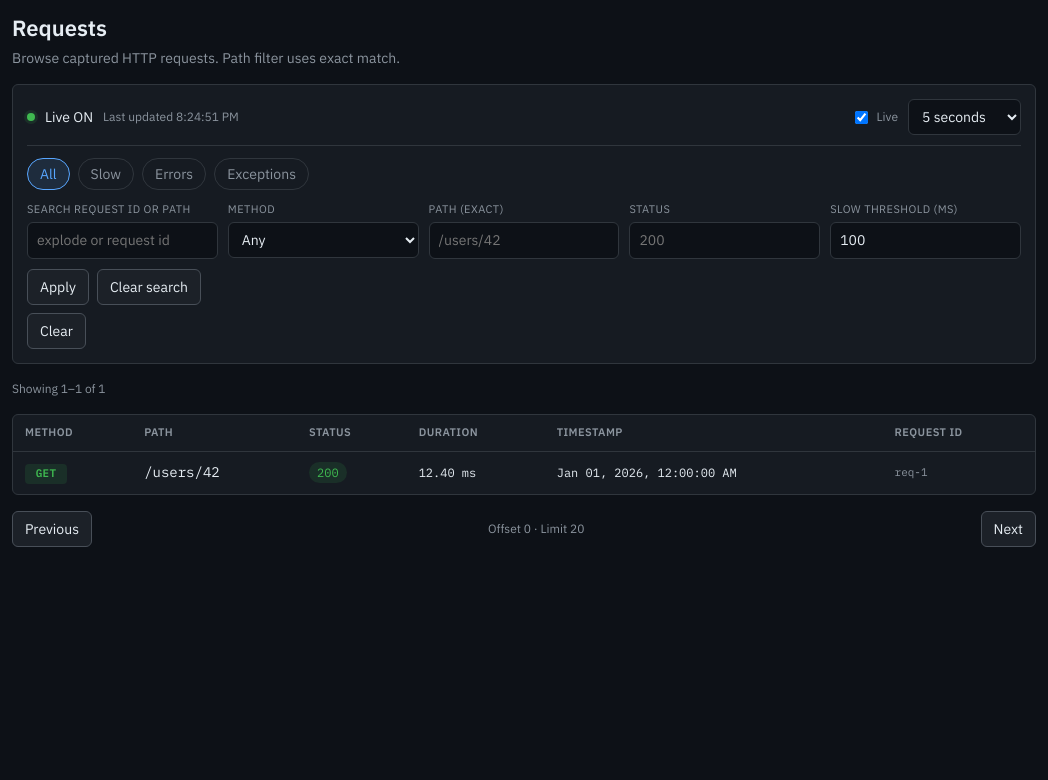
Test: RequestsExplorer › stops auto-refresh when live mode is disabled
Expected: the table with test id "request-table" is shown, [13,415,1035,494]
Click the checkbox with test id "live-toggle".
click(861, 117)  # box [855,111,868,124]
Wait 10000 ms
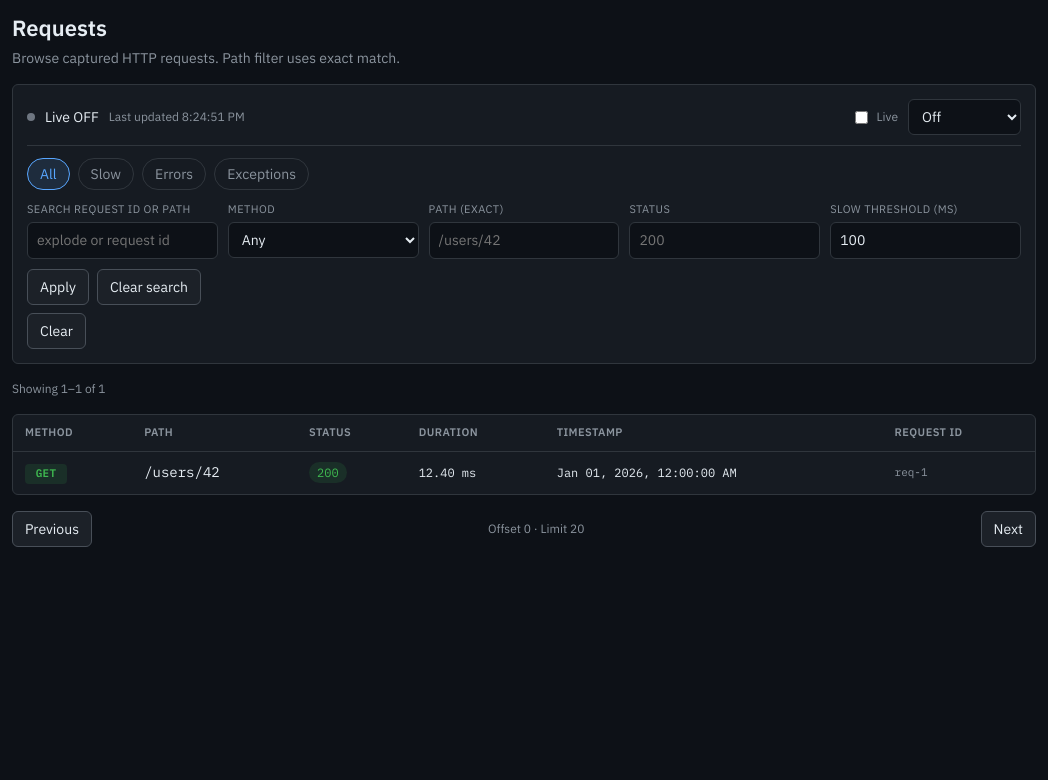
Now the text with test id "live-indicator" reads "Live OFF", box [45,107,99,127]
